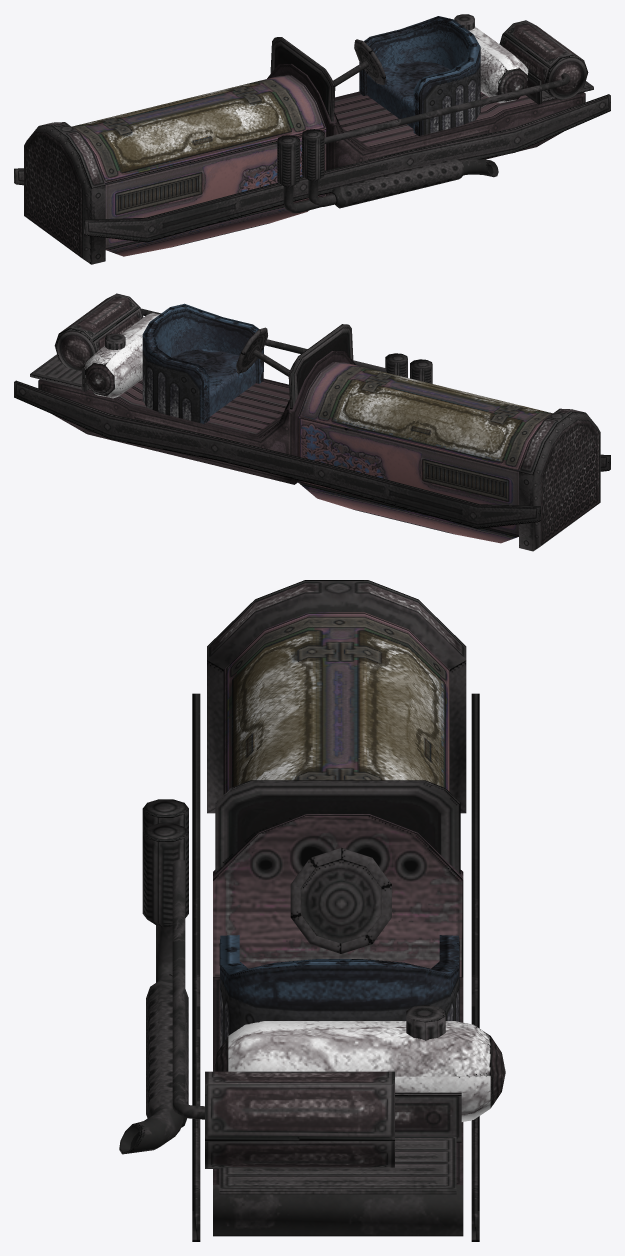
Rendered from ericVehicle.fbx.
The picture shows the model from 3 angles, top to bottom: view 1: azimuth 30°, elevation 25°; view 2: azimuth 150°, elevation 25°; view 3: azimuth 270°, elevation 25°; orthographic projection. The views are drawn at different scales.
Parts seen in each view (by area): view 1: vehicle:Mesh; view 2: vehicle:Mesh; view 3: vehicle:Mesh.
Part boxes in pixels (left/top/right/bottom): vehicle:Mesh: left=14, top=14, right=610, bottom=264; vehicle:Mesh: left=14, top=293, right=610, bottom=551; vehicle:Mesh: left=119, top=580, right=505, bottom=1241.
Size of the model in its own units: 461 by 124 by 147.
1 material, 1 textured.
